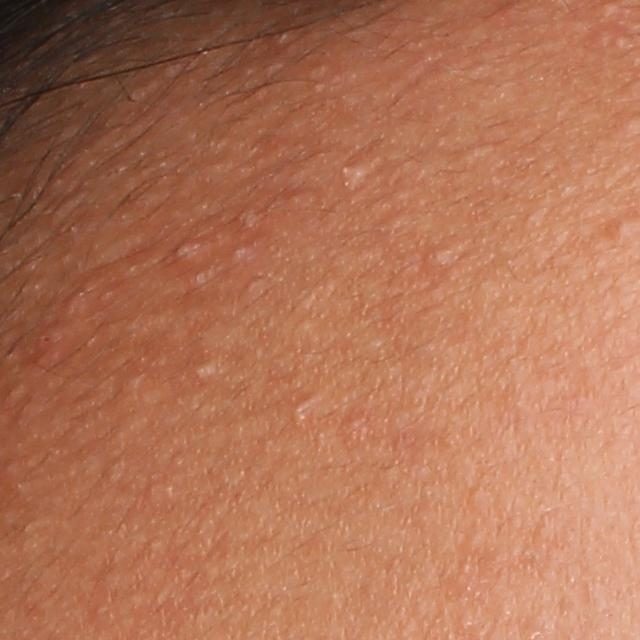comedo: (333, 157, 375, 193), (420, 244, 455, 282), (285, 395, 321, 428), (188, 354, 215, 386), (171, 238, 198, 264), (610, 216, 634, 241), (231, 244, 246, 264)
